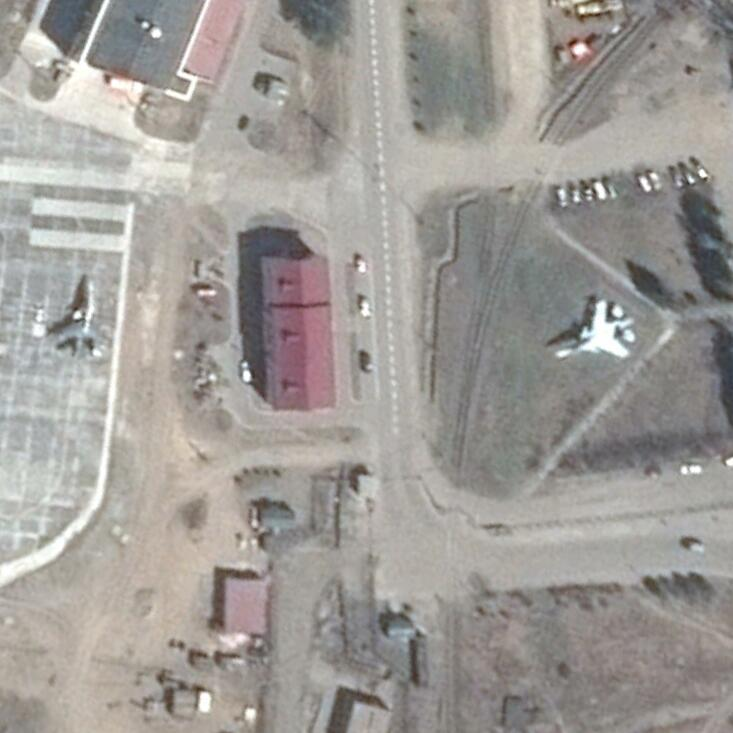A19: (551, 293, 640, 364), (45, 278, 116, 361)
